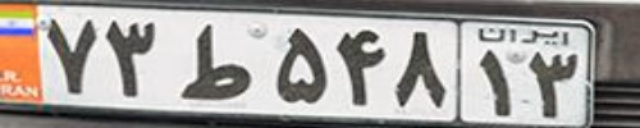1: (477, 49, 511, 115)
3: (105, 21, 158, 97), (526, 52, 578, 118)
4: (335, 29, 386, 106)
5: (275, 27, 327, 104)
7: (44, 18, 99, 94)
8: (395, 30, 448, 108)
taa: (177, 23, 251, 100)
